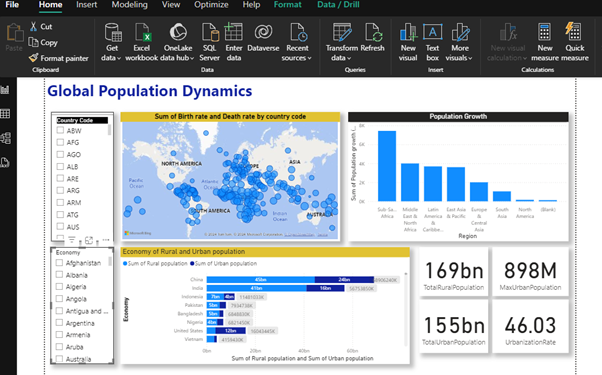

Layout of this report page (visuals, bound fields, positions):
{"tool":"powerbi","page":{"name":"Page 1","canvas":[1280,720],"ordinal":0},"visuals":[{"type":"map","title":"Sum of  Birth rate and Death rate  by  country code","fields":{"Size":["Population Figures & Projections.Total_Birth_Death_Rate"],"Category":["Population Figures & Projections.Country Name"]},"box":[182.2,83.8,530.4,311.5],"z":0},{"type":"slicer","fields":{"Values":["Population Figures & Projections.Country Code"]},"box":[14.7,83.8,151.3,311.5],"z":1000},{"type":"clusteredColumnChart","title":"Population Growth","fields":{"Y":["Sum(Population Figures & Projections.Population growth (annual %))"],"Category":["List of economies.Region"]},"box":[731.8,83.8,531.9,311.5],"z":2000},{"type":"slicer","fields":{"Values":["List of economies.Economy"]},"box":[13.2,410,152.8,282.1],"z":3000},{"type":"barChart","title":"Economy of Rural and Urban population","fields":{"Category":["List of economies.Economy"],"Y":["Sum(Population Figures & Projections.Rural population)","Sum(Population Figures & Projections.Urban population)"]},"box":[182.2,410,698,282.1],"z":4000},{"type":"card","fields":{"Values":["Population Figures & Projections.TotalRuralPopulation"]},"box":[903.7,410,166,117.6],"z":5000},{"type":"card","fields":{"Values":["Population Figures & Projections.TotalUrbanPopulation"]},"box":[903.7,536.3,166,129.3],"z":6000},{"type":"card","fields":{"Values":["Population Figures & Projections.MaxUrbanPopulation"]},"box":[1080,410,183.7,117.6],"z":7000},{"type":"card","fields":{"Values":["Population Figures & Projections.UrbanizationRate"]},"box":[1080,536.3,183.7,129.3],"z":8000},{"type":"textbox","box":[0,0,1279.8,58.8],"z":9000}]}

Visuals, with their boxes on the page's 1280x720 design canvas (x1, y1, x2, y2). These are canvas units, not pixel positions in the 602x375 screenshot, which may show the page scaled, cropped or inside an application window:
"Sum of  Birth rate and Death rate  by  country code" map: x1=182 y1=84 x2=713 y2=395
slicer - Population Figures & Projections.Country Code: x1=15 y1=84 x2=166 y2=395
"Population Growth" clusteredColumnChart: x1=732 y1=84 x2=1264 y2=395
slicer - List of economies.Economy: x1=13 y1=410 x2=166 y2=692
"Economy of Rural and Urban population" barChart: x1=182 y1=410 x2=880 y2=692
card - Population Figures & Projections.TotalRuralPopulation: x1=904 y1=410 x2=1070 y2=528
card - Population Figures & Projections.TotalUrbanPopulation: x1=904 y1=536 x2=1070 y2=666
card - Population Figures & Projections.MaxUrbanPopulation: x1=1080 y1=410 x2=1264 y2=528
card - Population Figures & Projections.UrbanizationRate: x1=1080 y1=536 x2=1264 y2=666
textbox: x1=0 y1=0 x2=1280 y2=59
